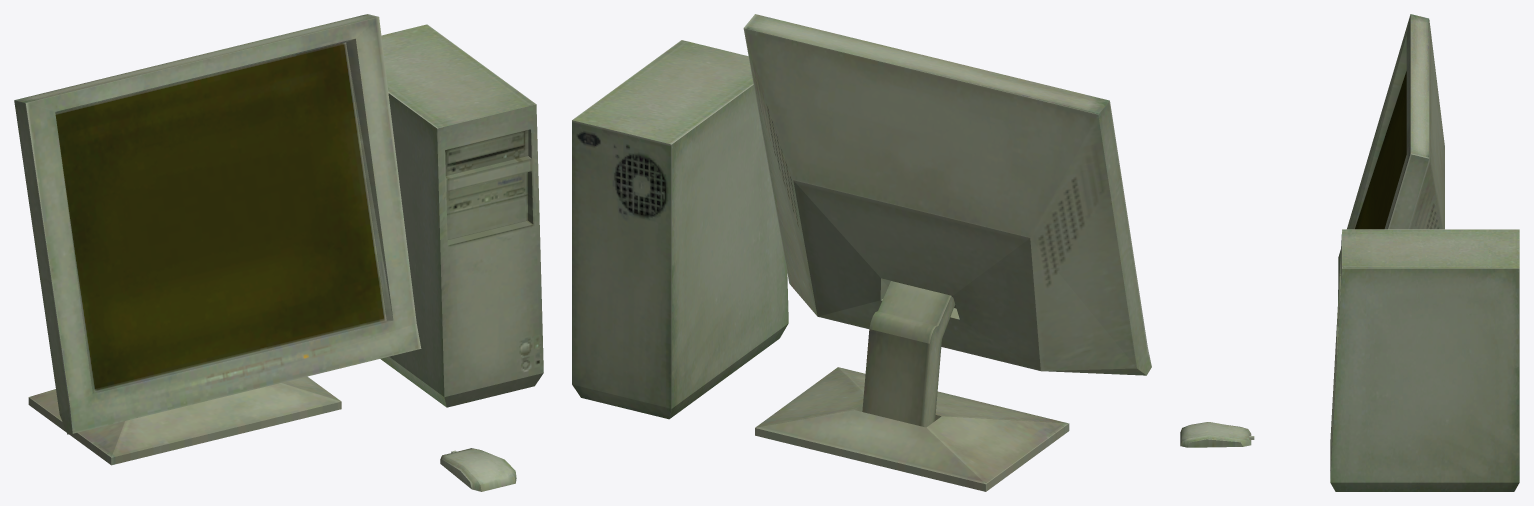
File: Computer.obj
The picture shows the model from 3 angles, left to right: view 1: azimuth 30°, elevation 25°; view 2: azimuth 150°, elevation 25°; view 3: azimuth 270°, elevation 25°; orthographic projection. The views are drawn at different scales.
Visible parts, largest first — view 1: computer01_monitor_reference, computer01_case_reference, computer01_mouse_reference; view 2: computer01_monitor_reference, computer01_case_reference; view 3: computer01_case_reference, computer01_monitor_reference, computer01_mouse_reference.
Boxes of the visible parts, x1,y1,x2,y2 form: computer01_monitor_reference: (14,14,421,465); computer01_case_reference: (380,24,543,407); computer01_mouse_reference: (440,448,516,491); computer01_monitor_reference: (743,14,1151,491); computer01_case_reference: (572,40,788,419); computer01_case_reference: (1330,229,1519,491); computer01_monitor_reference: (1338,14,1444,300); computer01_mouse_reference: (1180,422,1254,447).
Size of the model in its own units: 31.98 by 23.65 by 24.68.
Materials: 1 (1 with a texture image).
